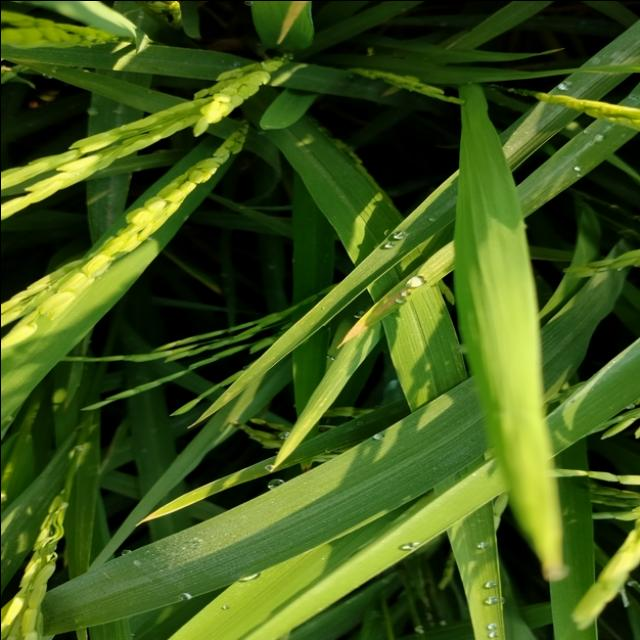healthy: (334, 298, 396, 348)
